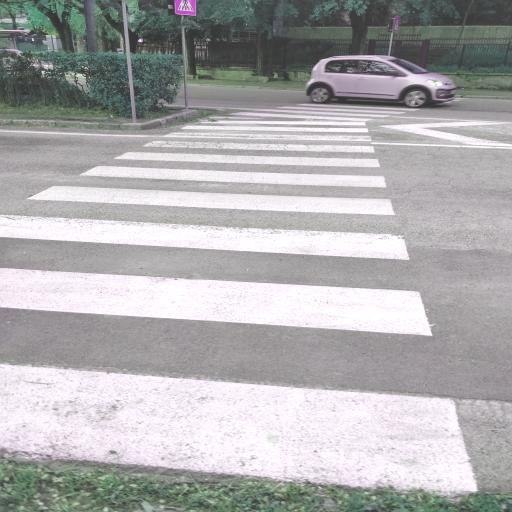crosswalk: (12, 162, 411, 222)
